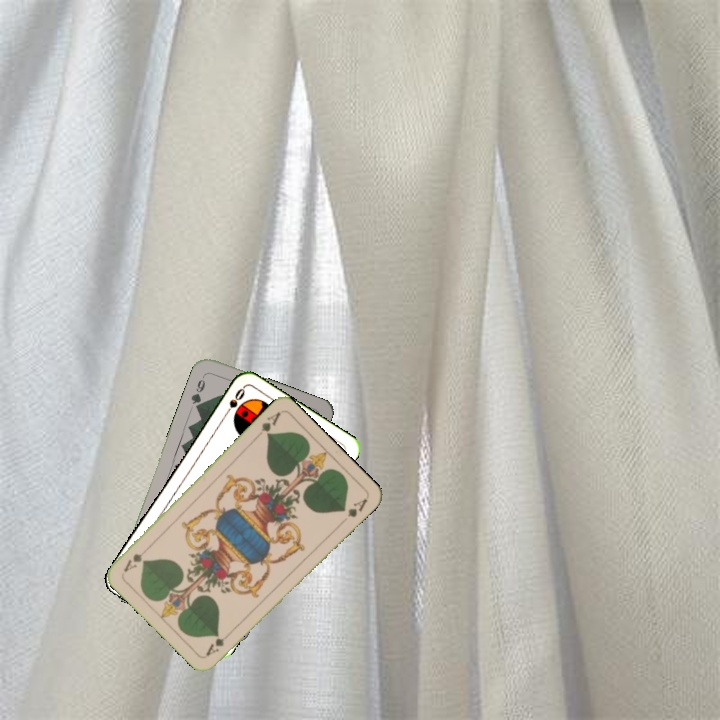G9: (187, 370, 208, 410)
GA: (201, 627, 235, 659), (257, 408, 283, 438)
SO: (219, 384, 247, 420)
